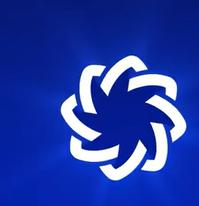ABB: (59, 54, 187, 182)
